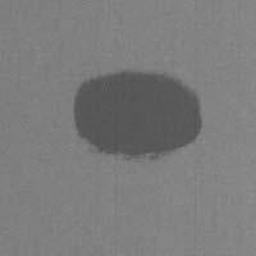Oil spot: (72, 68, 204, 164)
